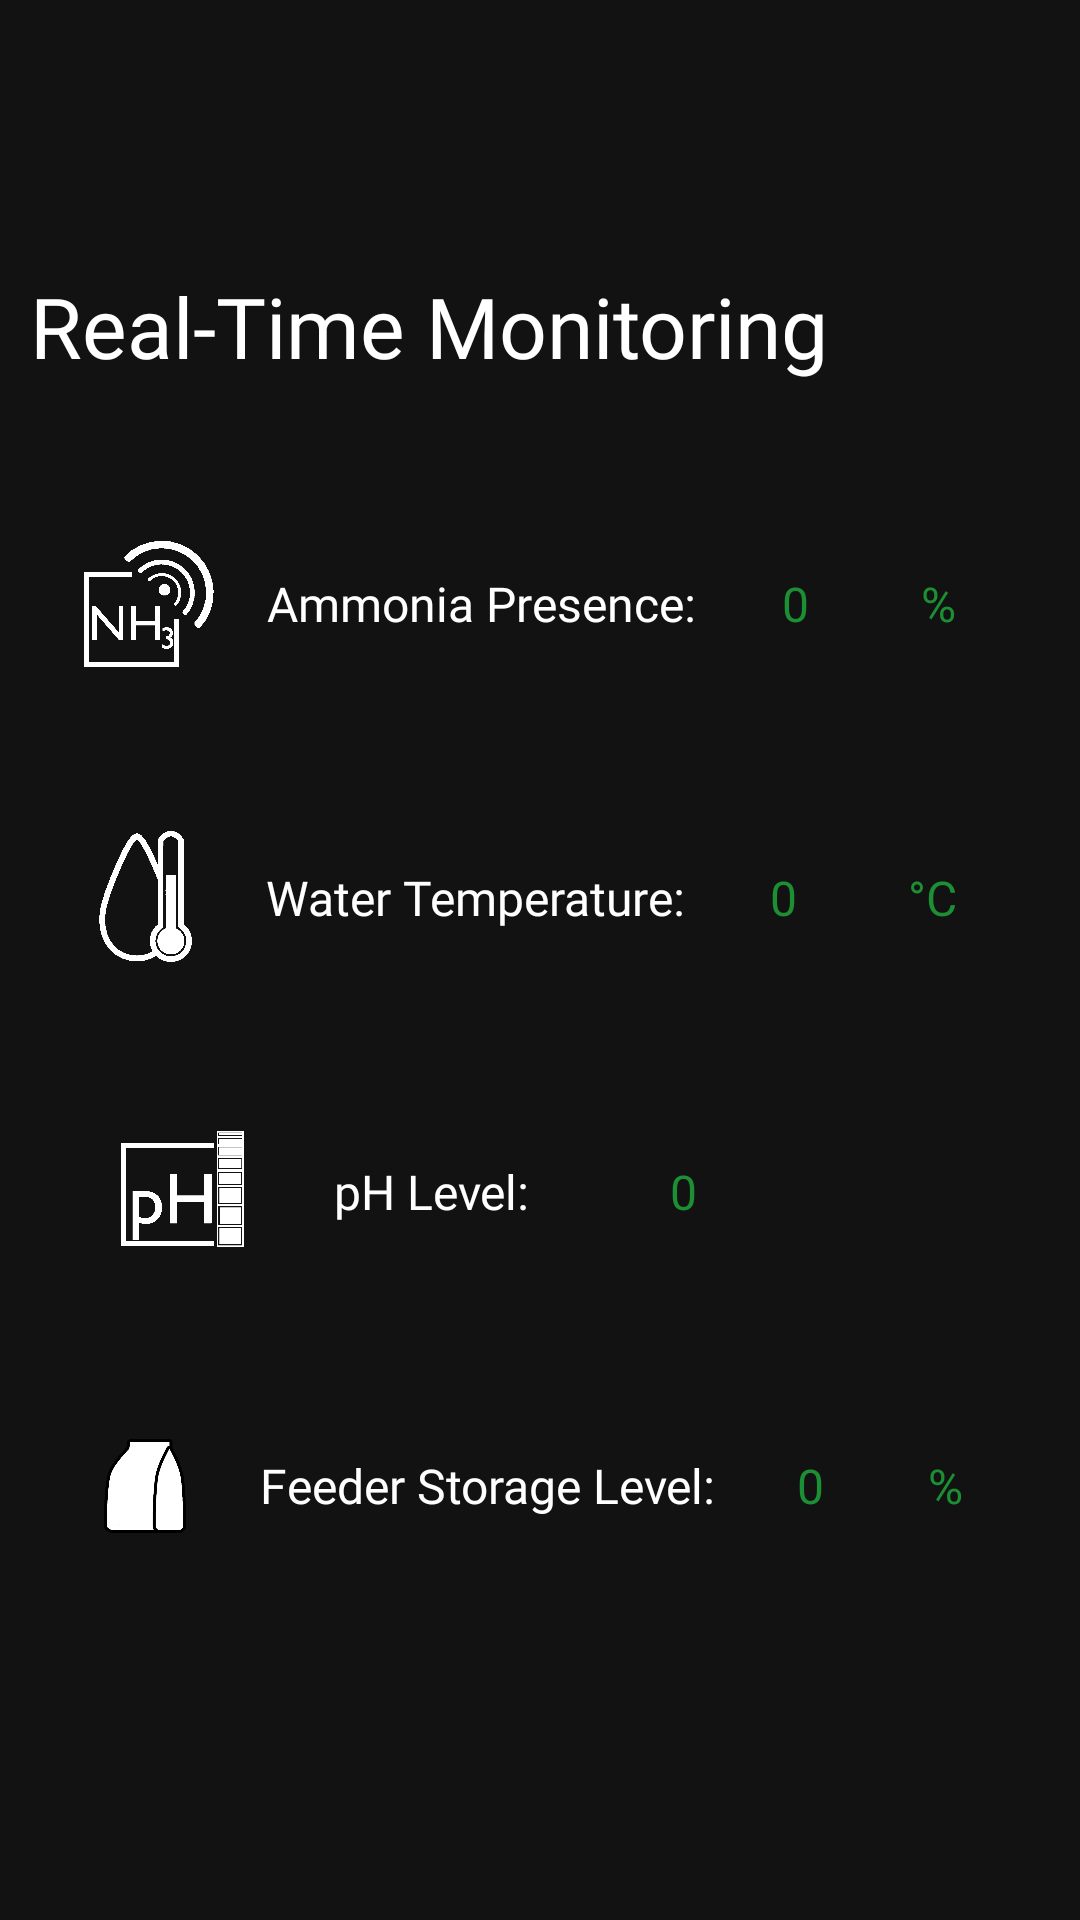

Where icons sit on this 1080 × 1920 app screen, as {"left": x1, "top": y1, "right": x2, "bottom": y2}:
ammoniasensor: {"left": 84, "top": 541, "right": 214, "bottom": 667}
feedicon: {"left": 107, "top": 1442, "right": 183, "bottom": 1530}
watersensortemp: {"left": 99, "top": 831, "right": 192, "bottom": 962}
